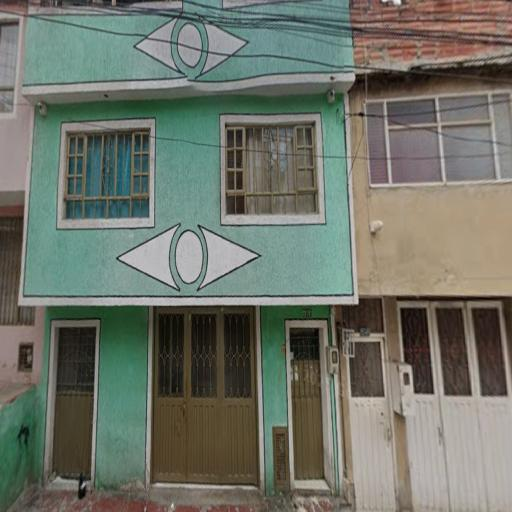Casa: (17, 0, 363, 494), (333, 0, 511, 511)
